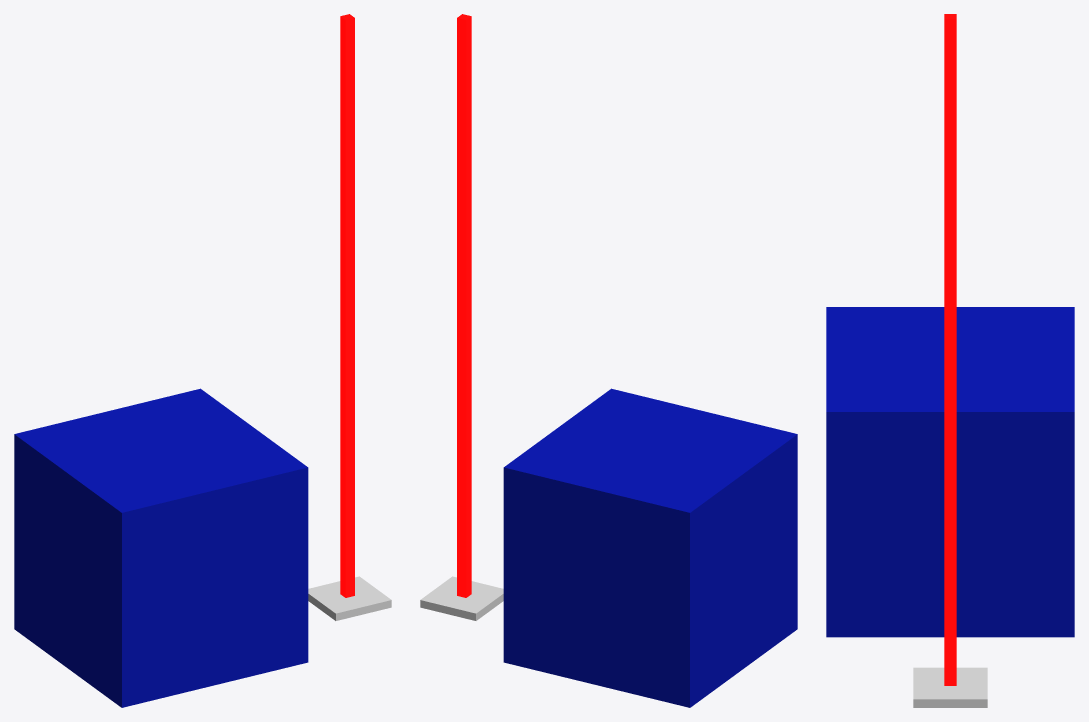
Rendered from Physics - Raycast Tags.glb.
The picture shows the model from 3 angles, left to right: view 1: azimuth 30°, elevation 25°; view 2: azimuth 150°, elevation 25°; view 3: azimuth 270°, elevation 25°; orthographic projection. The views are drawn at different scales.
Visible parts, largest first — view 1: BlueMesh, Laser, LaserBase; view 2: BlueMesh, Laser, LaserBase; view 3: BlueMesh, Laser, LaserBase.
Part boxes in pixels (bbox=[...]): BlueMesh: bbox=[14, 388, 308, 707]; Laser: bbox=[340, 14, 354, 597]; LaserBase: bbox=[308, 576, 391, 620]; BlueMesh: bbox=[503, 388, 797, 707]; Laser: bbox=[457, 14, 471, 597]; LaserBase: bbox=[420, 576, 503, 620]; BlueMesh: bbox=[826, 307, 1074, 637]; Laser: bbox=[944, 14, 956, 685]; LaserBase: bbox=[913, 667, 987, 707].
Size of what is drawn, in the model's own units: 1.65 by 3 by 1.
